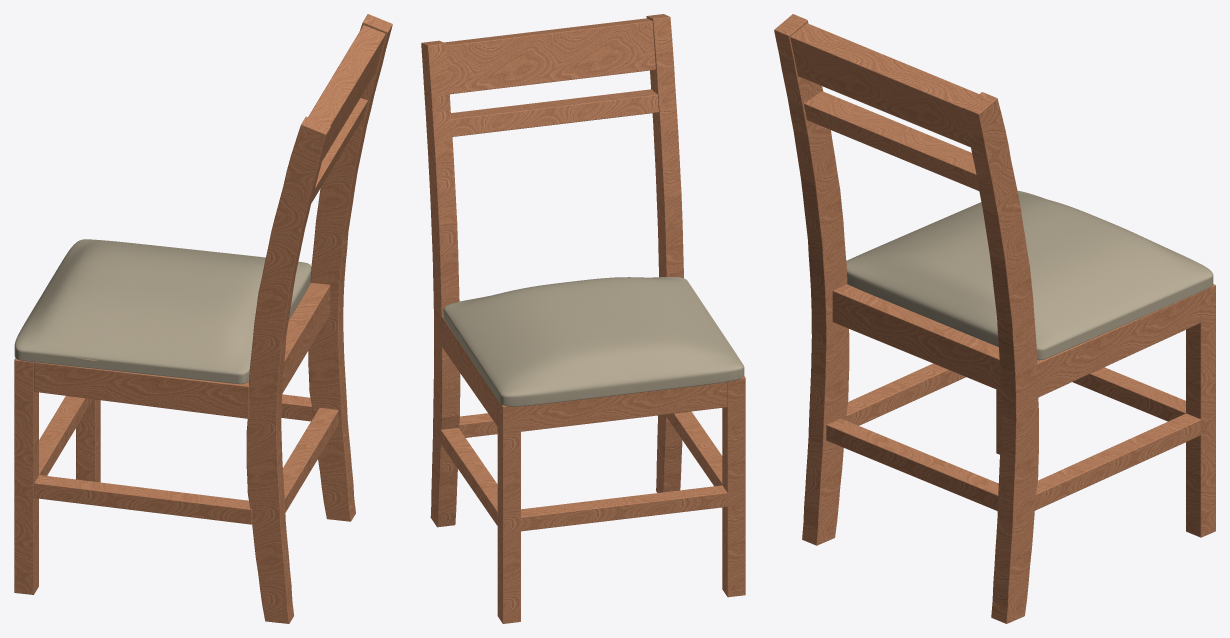
File: chair 1.obj
3 views of the same model, side by side, from view 1: azimuth 30°, elevation 25°; view 2: azimuth 150°, elevation 25°; view 3: azimuth 270°, elevation 25° (orthographic). The views are drawn at different scales.
Parts seen in each view (by area): view 1: Mesh15 chair3_1 Group1 Model, Mesh13 chair1 Group1 Model, Mesh14 chair1 Group1 Model, Mesh9 chair1 Group1 Model, Mesh11 chair1 Group1 Model, Mesh7 chair1 Group1 Model, Mesh2 chair1 Group1 Model, Mesh6 chair1 Group1 Model, Mesh4 chair1 Group1 Model, Mesh3 chair1 Group1 Model, Mesh12 chair1 Group1 Model, Mesh1 chair1 Group1 Model (+1 smaller); view 2: Mesh15 chair3_1 Group1 Model, Mesh14 chair1 Group1 Model, Mesh2 chair1 Group1 Model, Mesh13 chair1 Group1 Model, Mesh5 chair1 Group1 Model, Mesh12 chair1 Group1 Model, Mesh1 chair1 Group1 Model, Mesh11 chair1 Group1 Model, Mesh3 chair1 Group1 Model, Mesh8 chair1 Group1 Model, Mesh7 chair1 Group1 Model, Mesh10 chair1 Group1 Model (+1 smaller); view 3: Mesh15 chair3_1 Group1 Model, Mesh14 chair1 Group1 Model, Mesh13 chair1 Group1 Model, Mesh2 chair1 Group1 Model, Mesh6 chair1 Group1 Model, Mesh12 chair1 Group1 Model, Mesh1 chair1 Group1 Model, Mesh10 chair1 Group1 Model, Mesh4 chair1 Group1 Model, Mesh8 chair1 Group1 Model, Mesh7 chair1 Group1 Model, Mesh3 chair1 Group1 Model.
Part boxes in pixels (box(x1,y1,x2,y2)): Mesh15 chair3_1 Group1 Model: box(14, 239, 311, 384); Mesh13 chair1 Group1 Model: box(246, 116, 330, 623); Mesh14 chair1 Group1 Model: box(308, 14, 392, 521); Mesh9 chair1 Group1 Model: box(34, 359, 249, 418); Mesh11 chair1 Group1 Model: box(14, 358, 38, 594); Mesh7 chair1 Group1 Model: box(34, 475, 252, 524); Mesh2 chair1 Group1 Model: box(308, 25, 385, 160); Mesh6 chair1 Group1 Model: box(282, 283, 330, 393); Mesh4 chair1 Group1 Model: box(283, 407, 338, 512); Mesh3 chair1 Group1 Model: box(39, 396, 92, 475); Mesh12 chair1 Group1 Model: box(76, 399, 100, 482); Mesh1 chair1 Group1 Model: box(311, 98, 367, 203); Mesh15 chair3_1 Group1 Model: box(443, 276, 744, 406); Mesh14 chair1 Group1 Model: box(421, 40, 460, 527); Mesh2 chair1 Group1 Model: box(444, 18, 655, 94); Mesh13 chair1 Group1 Model: box(646, 14, 683, 492); Mesh5 chair1 Group1 Model: box(521, 382, 727, 431); Mesh12 chair1 Group1 Model: box(497, 400, 520, 623); Mesh1 chair1 Group1 Model: box(451, 89, 658, 136); Mesh11 chair1 Group1 Model: box(722, 376, 745, 597); Mesh3 chair1 Group1 Model: box(520, 485, 727, 531); Mesh8 chair1 Group1 Model: box(440, 428, 497, 525); Mesh7 chair1 Group1 Model: box(666, 411, 722, 486); Mesh10 chair1 Group1 Model: box(441, 315, 497, 425); Mesh15 chair3_1 Group1 Model: box(846, 191, 1213, 360); Mesh14 chair1 Group1 Model: box(963, 92, 1038, 623); Mesh13 chair1 Group1 Model: box(774, 14, 849, 545); Mesh2 chair1 Group1 Model: box(790, 23, 978, 147); Mesh6 chair1 Group1 Model: box(832, 284, 1000, 390); Mesh12 chair1 Group1 Model: box(1186, 284, 1215, 537); Mesh1 chair1 Group1 Model: box(804, 91, 979, 190); Mesh10 chair1 Group1 Model: box(1037, 292, 1200, 397); Mesh4 chair1 Group1 Model: box(826, 418, 998, 510); Mesh8 chair1 Group1 Model: box(1035, 413, 1201, 510); Mesh7 chair1 Group1 Model: box(846, 363, 965, 425); Mesh3 chair1 Group1 Model: box(1072, 367, 1185, 421).
Size of the model in its own units: 151 by 200 by 151.
Materials: 2 (2 with a texture image).
